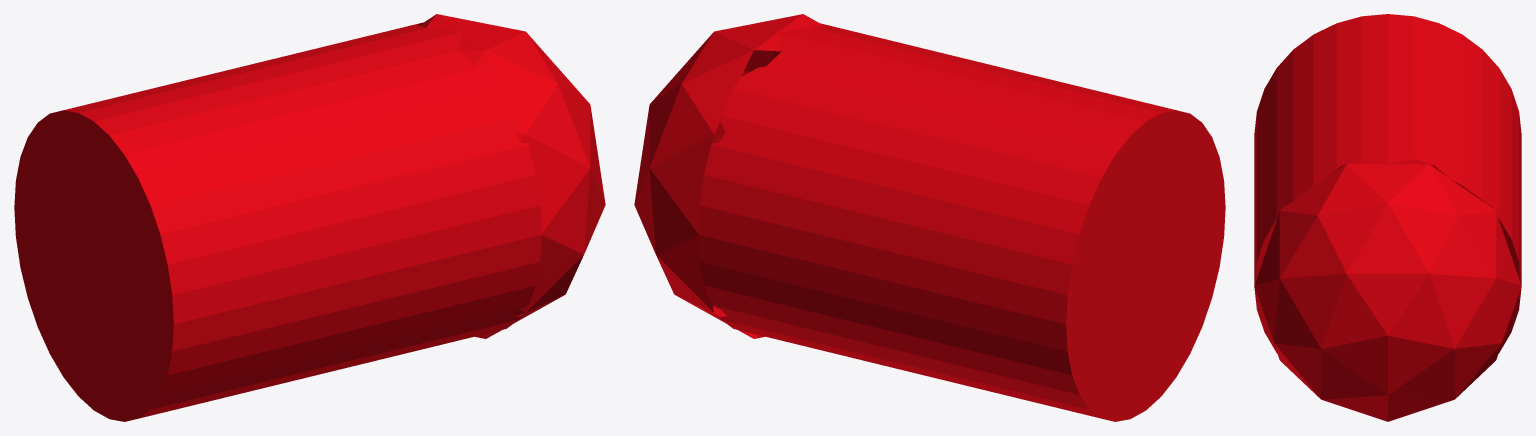
Rendered from grenade-launched.glb.
3 views of the same model, side by side, from view 1: azimuth 30°, elevation 25°; view 2: azimuth 150°, elevation 25°; view 3: azimuth 270°, elevation 25° (orthographic). The views are drawn at different scales.
Parts seen in each view (by area): view 1: Cylinder; view 2: Cylinder; view 3: Cylinder.
Boxes of the visible parts, x1,y1,x2,y2 form: Cylinder: [14, 14, 605, 421]; Cylinder: [634, 14, 1225, 421]; Cylinder: [1254, 14, 1521, 421].
Bounding box in the file's own units: 0.2662 × 0.15 × 0.15.
